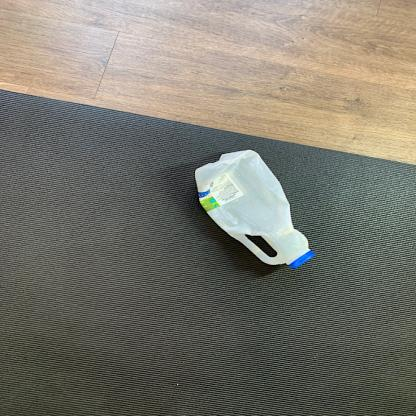trash: (190, 150, 316, 270)
